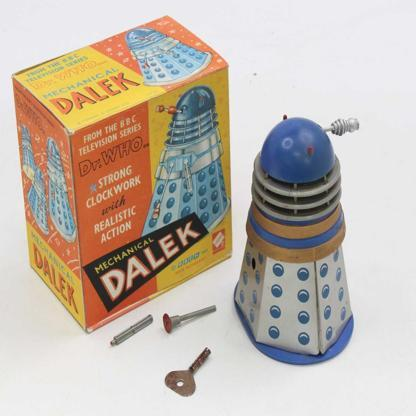dalek: (226, 96, 402, 379), (150, 84, 232, 256)
